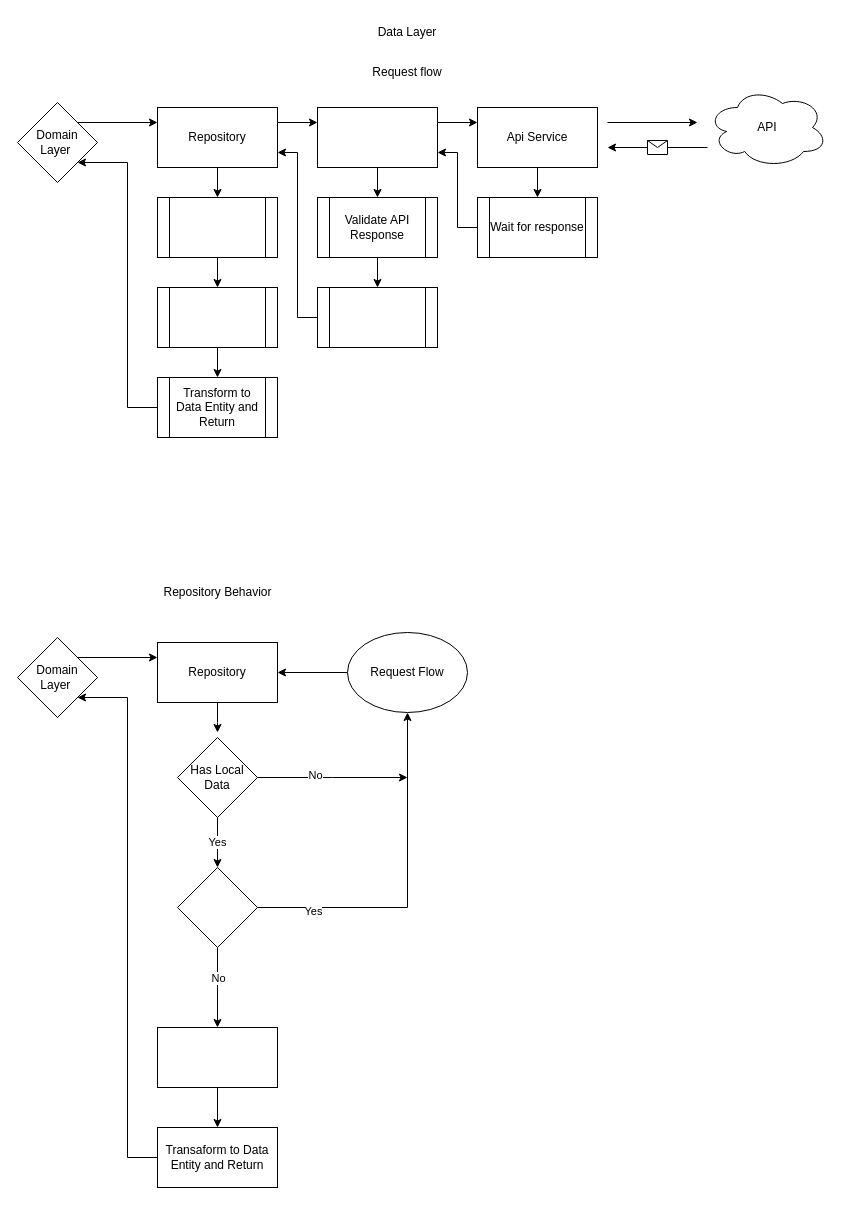
The diagram is 845 pixels wide and 1205 high, and some of its shapes have lost their labels. Here are the shapes that lost their labels. From the top down, the box of each, then its label:
(316, 106, 438, 168): DataSource
(156, 196, 278, 258): verifies result
(156, 286, 278, 348): Update cache / Local Storage
(316, 286, 438, 348): Wrap Response in Result and Return
(176, 866, 258, 948): Is Refresh?
(156, 1026, 278, 1088): Fetch local data
